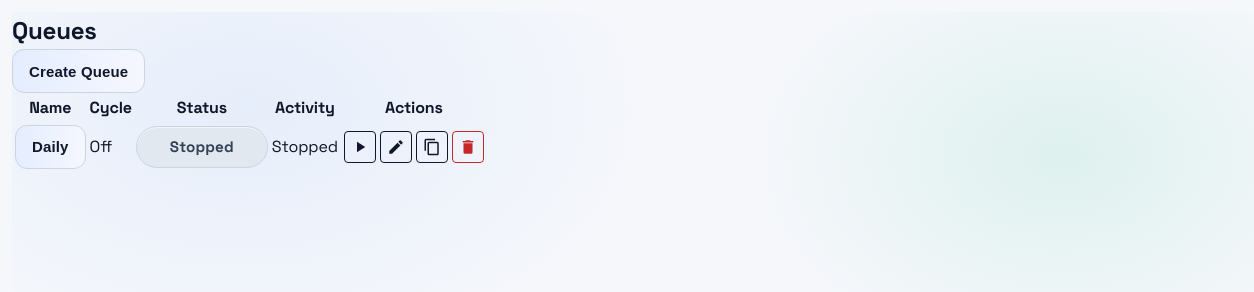
Test: QueuesPage start/stop › starts a stopped queue and reflects Running, keeping Edit and disabling Delete
Expected: the button "Daily" is shown, x1=15 y1=125 x2=86 y2=169
What coordinates should you click on to do the following:
click the button named "Start Daily"
I would click on:
 (360, 147)
Its box is x1=344 y1=131 x2=376 y2=163.
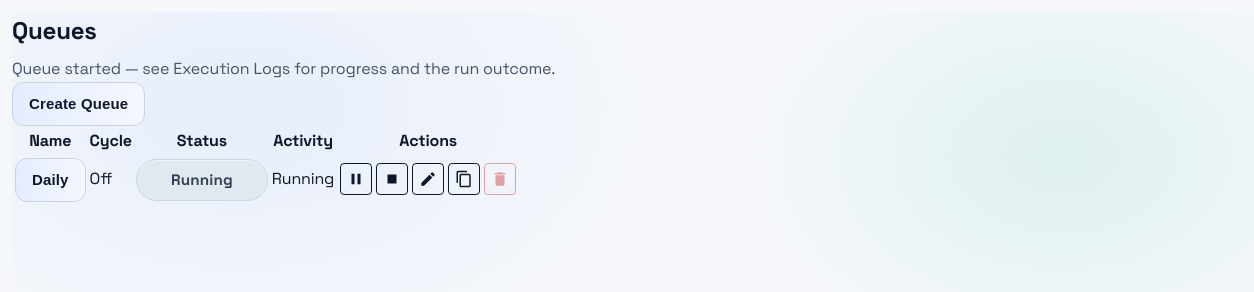
Expected: the text with test id "queue-status" reads "Running", x1=171 y1=170 x2=233 y2=189
Expected: the button named "Delete Daily" is disabled, x1=484 y1=163 x2=516 y2=195
Expected: the button named "Stop Daily" is shown, x1=376 y1=163 x2=408 y2=195
